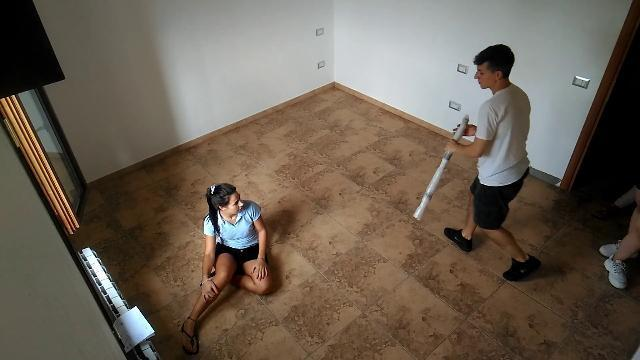non-violence: (179, 182, 277, 356), (601, 209, 640, 291)
violence: (409, 44, 547, 284)
